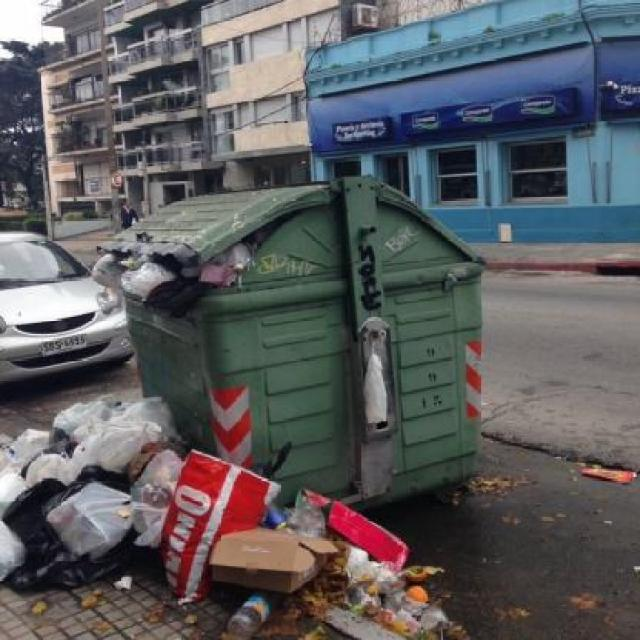garbage: (111, 449, 447, 639), (0, 384, 178, 582), (80, 266, 214, 308)
